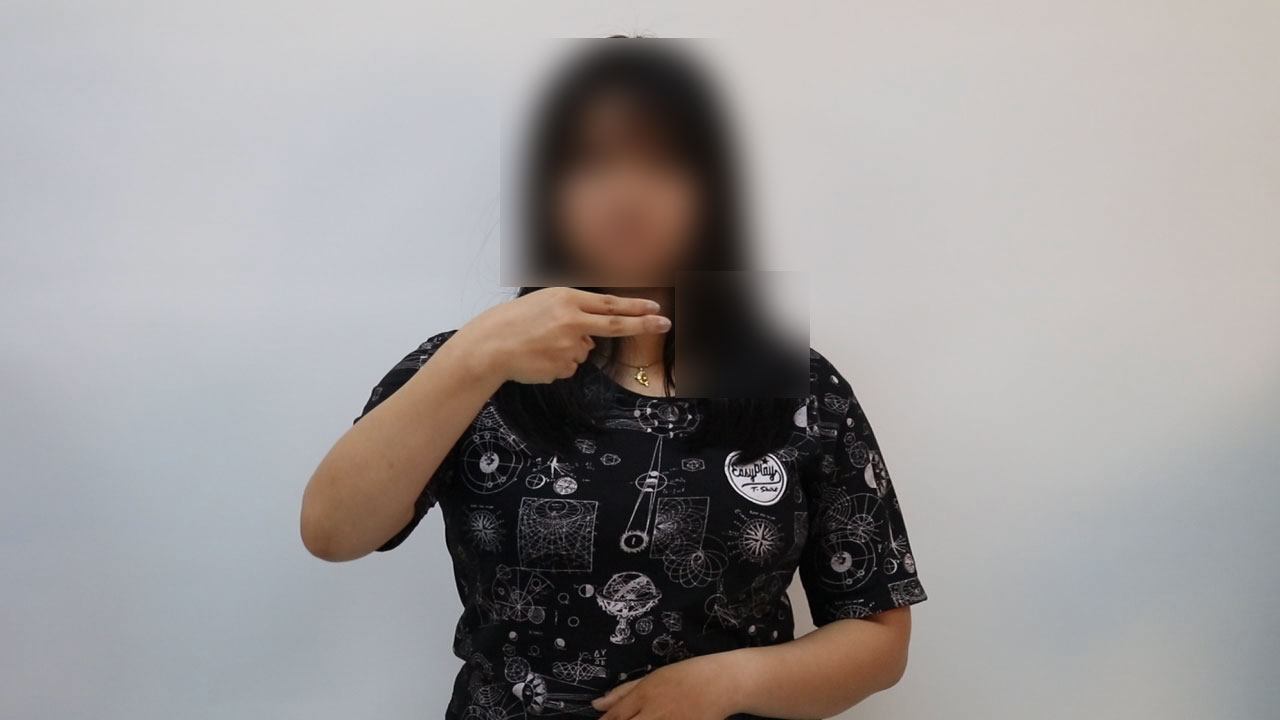hor: (469, 280, 686, 396)
